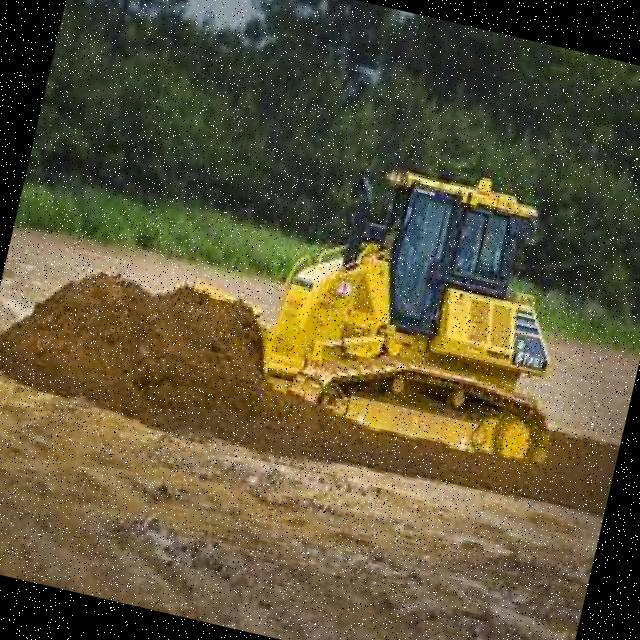Bulldozer: (152, 70, 630, 512)
